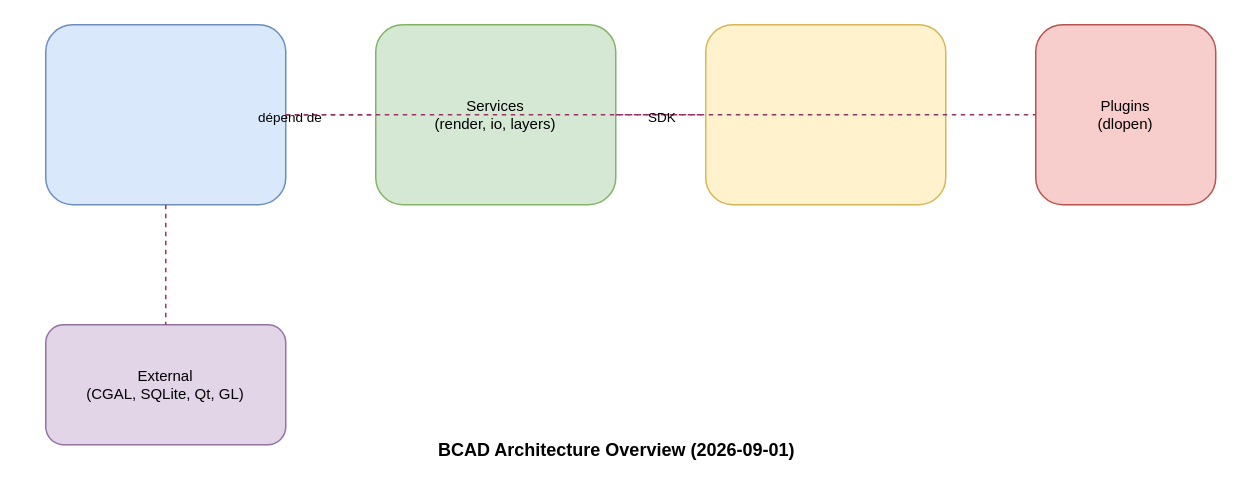
Some shapes in this 1241 by 485 pixel diagram are drawn without their labels. Here are the shapes that lost their labels. From the top down, the centre of each, then its label:
the point at 165,114: BCAD Core (Point2, Document, Command, EventBus)
the point at 825,114: App (Qt) (MainWindow, Viewport)
